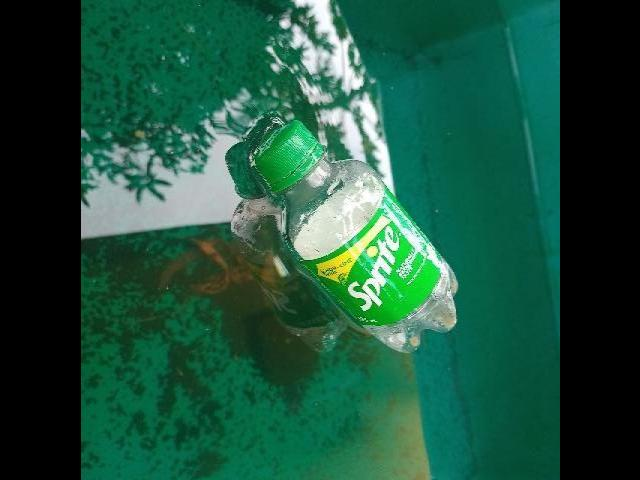Bottle: (245, 107, 466, 360)
